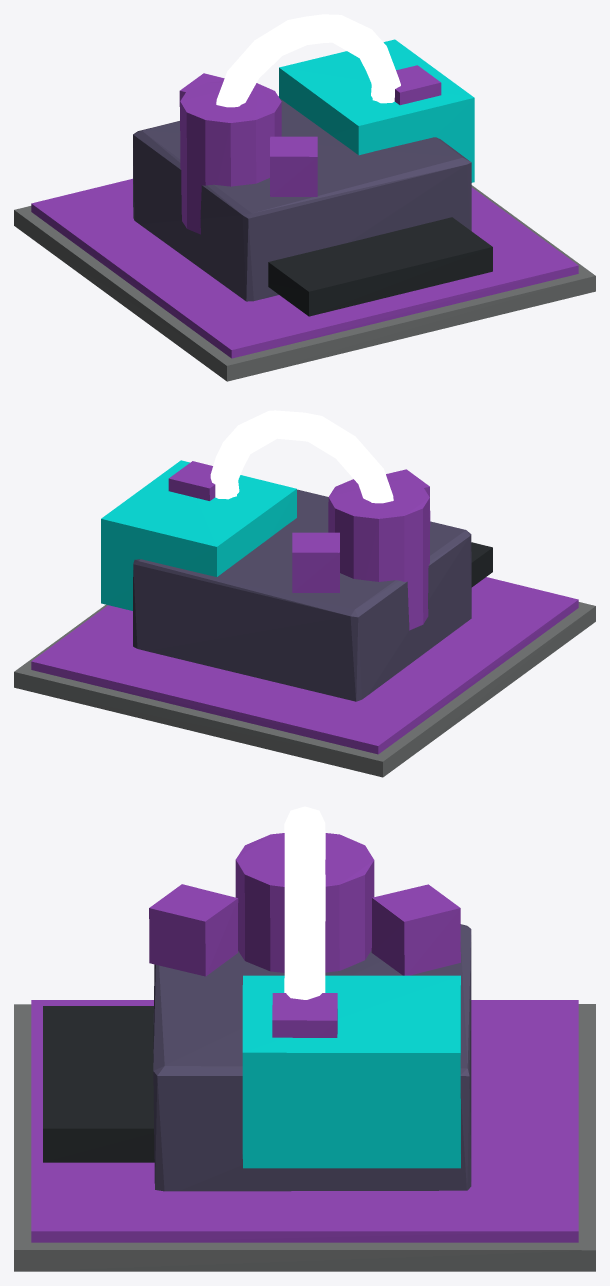
Rendered from SM_Chronolegion_CH_Refinery_LOD2.fbx.
The picture shows the model from 3 angles, top to bottom: view 1: azimuth 30°, elevation 25°; view 2: azimuth 150°, elevation 25°; view 3: azimuth 270°, elevation 25°; orthographic projection. The views are drawn at different scales.
Parts seen in each view (by area): view 1: LOD02_SM_Chronolegion_CH_Refinery; view 2: LOD02_SM_Chronolegion_CH_Refinery; view 3: LOD02_SM_Chronolegion_CH_Refinery.
Boxes of the visible parts, <box> form: LOD02_SM_Chronolegion_CH_Refinery: <box>14,14,595,381</box>; LOD02_SM_Chronolegion_CH_Refinery: <box>14,410,595,777</box>; LOD02_SM_Chronolegion_CH_Refinery: <box>14,806,595,1271</box>.
Bounding box in the file's own units: 797 × 797 × 499.
